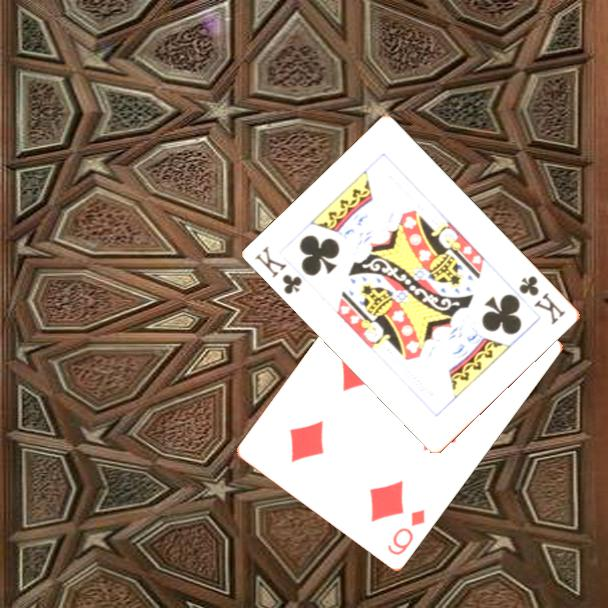c13: (515, 272, 569, 328), (252, 242, 305, 297)
d06: (384, 506, 428, 559)
